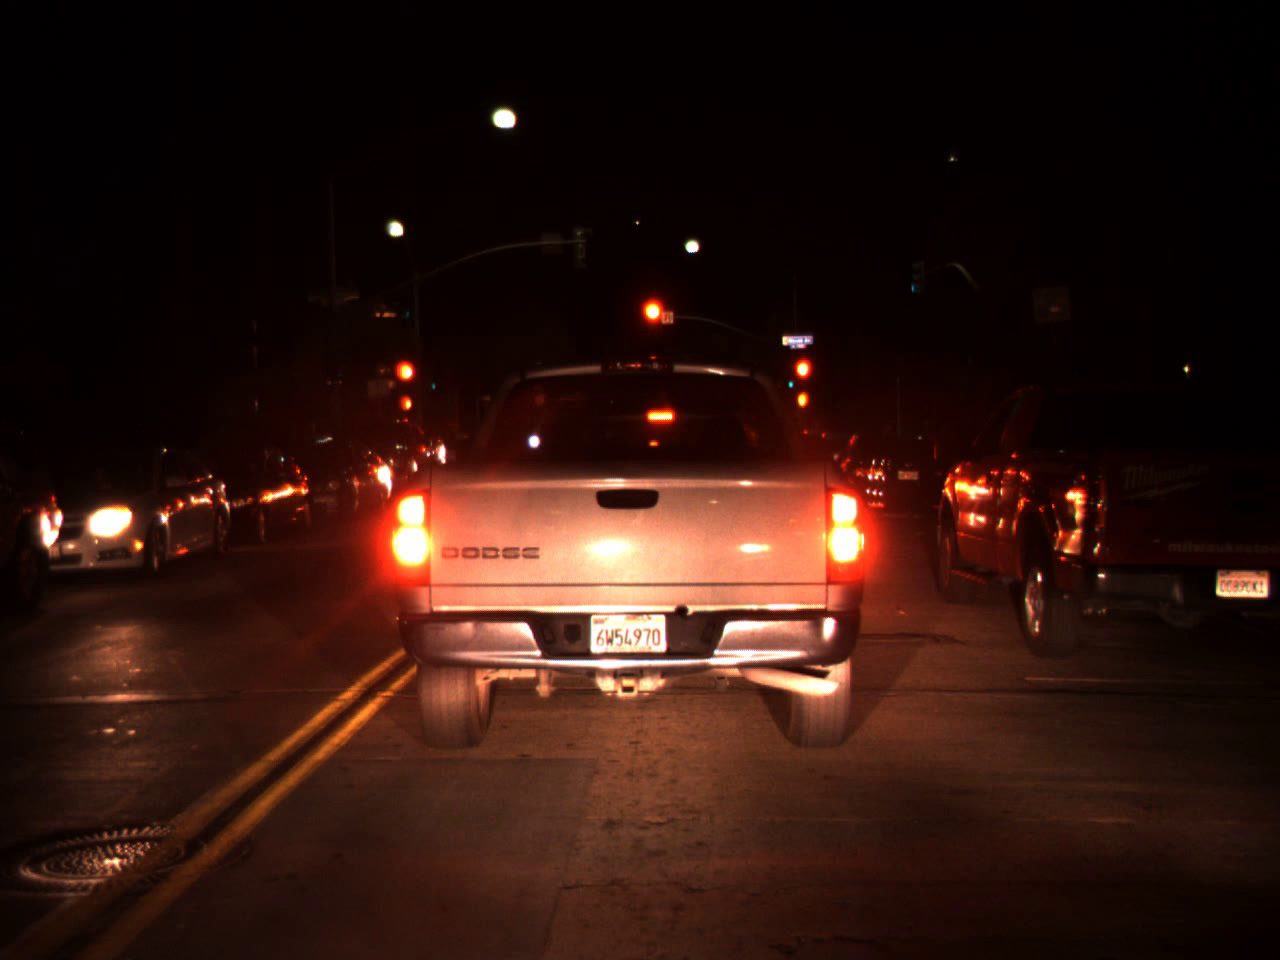stop: (641, 301, 662, 340), (397, 361, 415, 396), (794, 360, 812, 392)
